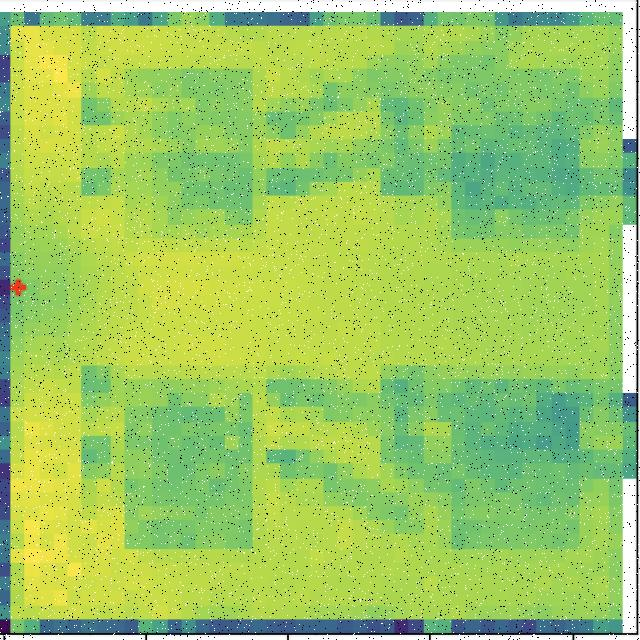Concrete: (113, 375, 273, 568)
Glass: (395, 51, 598, 242)
Metal: (63, 58, 263, 236)
Wood: (427, 358, 596, 564)
